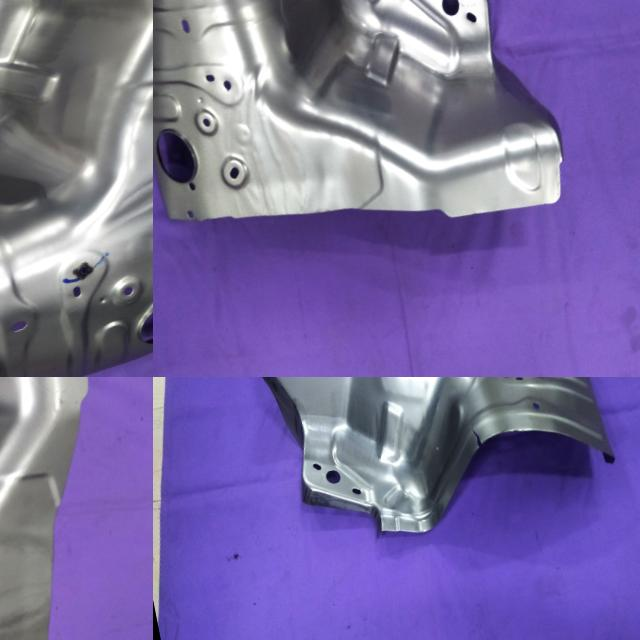Defect: (257, 0, 300, 30), (464, 414, 484, 450)
Healthy: (0, 0, 153, 377)
rust: (488, 416, 524, 438)
